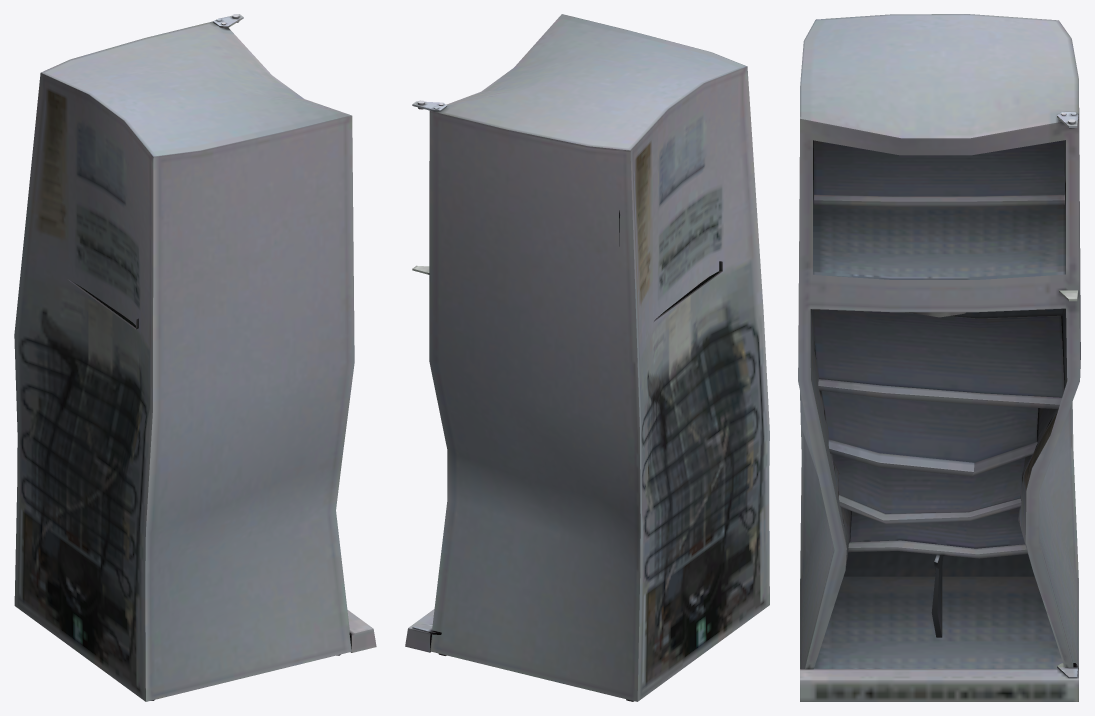
File: refrigerator03_damaged_01.glb
The picture shows the model from 3 angles, left to right: view 1: azimuth 30°, elevation 25°; view 2: azimuth 150°, elevation 25°; view 3: azimuth 270°, elevation 25°; orthographic projection. The views are drawn at different scales.
Parts seen in each view (by area): view 1: refrigerator03_damaged_01; view 2: refrigerator03_damaged_01; view 3: refrigerator03_damaged_01.
Boxes of the visible parts, box(x1,y1,x2,y2) form: refrigerator03_damaged_01: box(14, 14, 376, 701); refrigerator03_damaged_01: box(405, 14, 769, 701); refrigerator03_damaged_01: box(798, 14, 1080, 701).
Bounding box in the file's own units: 0.5992 × 1.36 × 0.596.
Materials: 1 (1 with a texture image).
